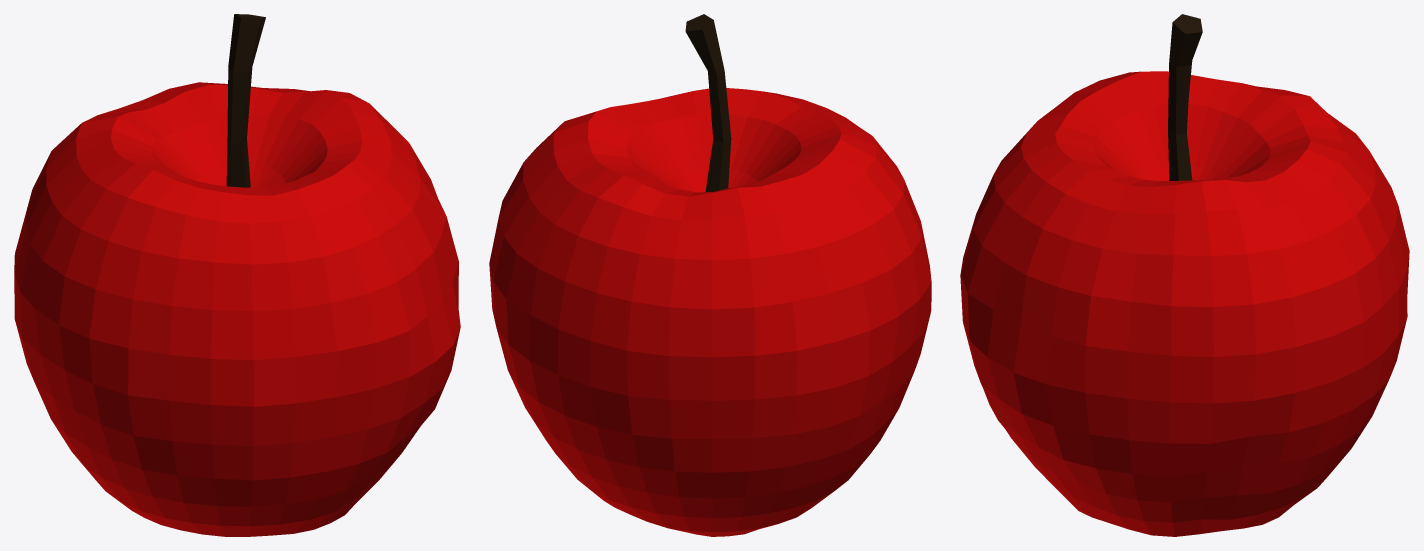
File: Bouncing_apple_000000.obj
3 renders of one model, left to right at view 1: azimuth 30°, elevation 25°; view 2: azimuth 150°, elevation 25°; view 3: azimuth 270°, elevation 25°, orthographic. The views are drawn at different scales.
Visible parts, largest first — view 1: Bouncing_apple.001_Cylinder.005; view 2: Bouncing_apple.001_Cylinder.005; view 3: Bouncing_apple.001_Cylinder.005.
Part boxes in pixels (x1=…): Bouncing_apple.001_Cylinder.005: x1=14, y1=14, x2=460, y2=536; Bouncing_apple.001_Cylinder.005: x1=489, y1=14, x2=931, y2=536; Bouncing_apple.001_Cylinder.005: x1=960, y1=14, x2=1409, y2=536.
Bounding box in the file's own units: 1.86 × 2.26 × 1.86.
